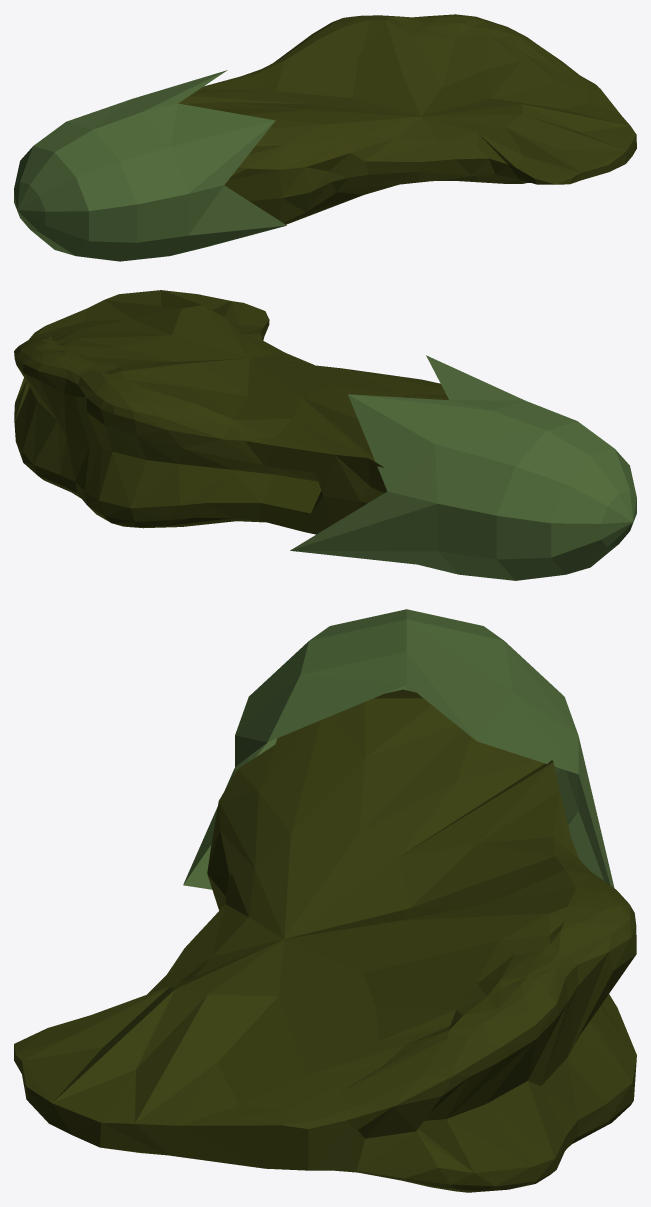
File: CowpeaFlower_senescent_highres.obj
The picture shows the model from 3 angles, top to bottom: view 1: azimuth 30°, elevation 25°; view 2: azimuth 150°, elevation 25°; view 3: azimuth 270°, elevation 25°; orthographic projection. The views are drawn at different scales.
Visible parts, largest first — view 1: petal, sepal; view 2: petal, sepal; view 3: petal, sepal.
Boxes of the visible parts, x1=… form: petal: x1=178, y1=14, x2=636, y2=224; sepal: x1=14, y1=70, x2=286, y2=261; petal: x1=14, y1=290, x2=448, y2=534; sepal: x1=290, y1=355, x2=636, y2=580; petal: x1=14, y1=689, x2=636, y2=1192; sepal: x1=183, y1=609, x2=614, y2=889.
Bounding box in the file's own units: 0.9534 × 0.227 × 0.5172.
